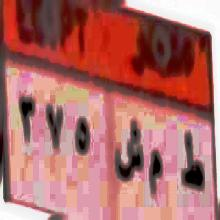3: (18, 87, 38, 150)
5: (74, 107, 94, 173)
7: (45, 97, 65, 156)
Taa: (182, 126, 205, 198)
meem: (149, 148, 163, 204)
sheen: (114, 116, 144, 196)
